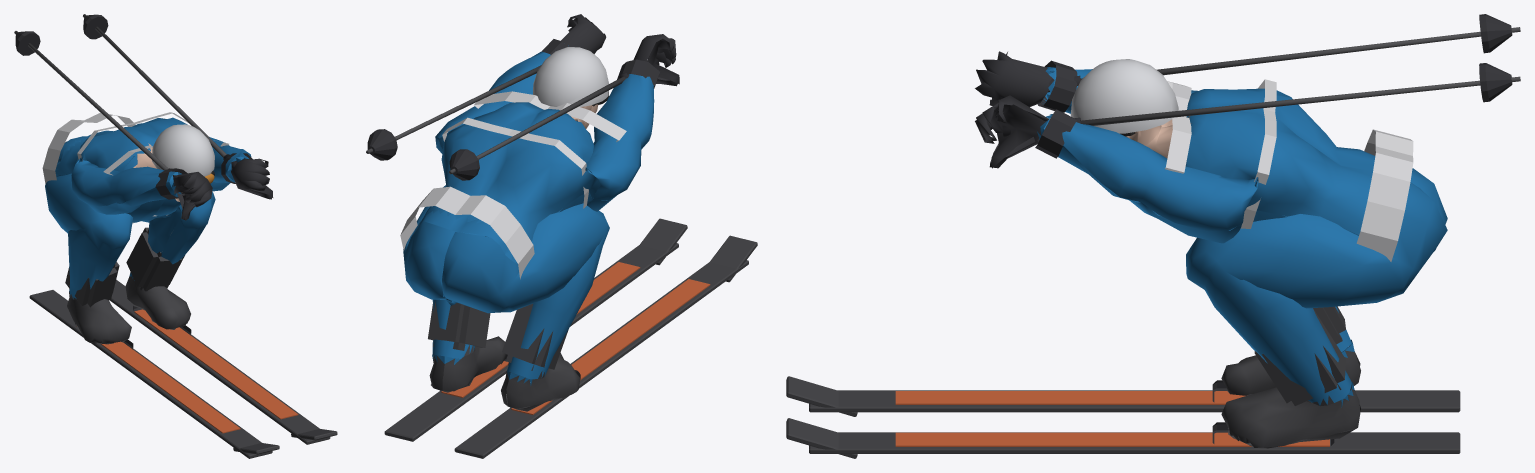
The model's file is skier-tuck.glb.
3 views of the same model, side by side, from view 1: azimuth 30°, elevation 25°; view 2: azimuth 150°, elevation 25°; view 3: azimuth 270°, elevation 25° (orthographic). The views are drawn at different scales.
Parts seen in each view (by area): view 1: skier-tuck; view 2: skier-tuck; view 3: skier-tuck.
Part boxes in pixels (bbox=[...]): skier-tuck: bbox=[14, 14, 337, 458]; skier-tuck: bbox=[366, 14, 757, 458]; skier-tuck: bbox=[786, 14, 1520, 458].
Bounding box in the file's own units: 0.6034 × 0.9813 × 1.67.
